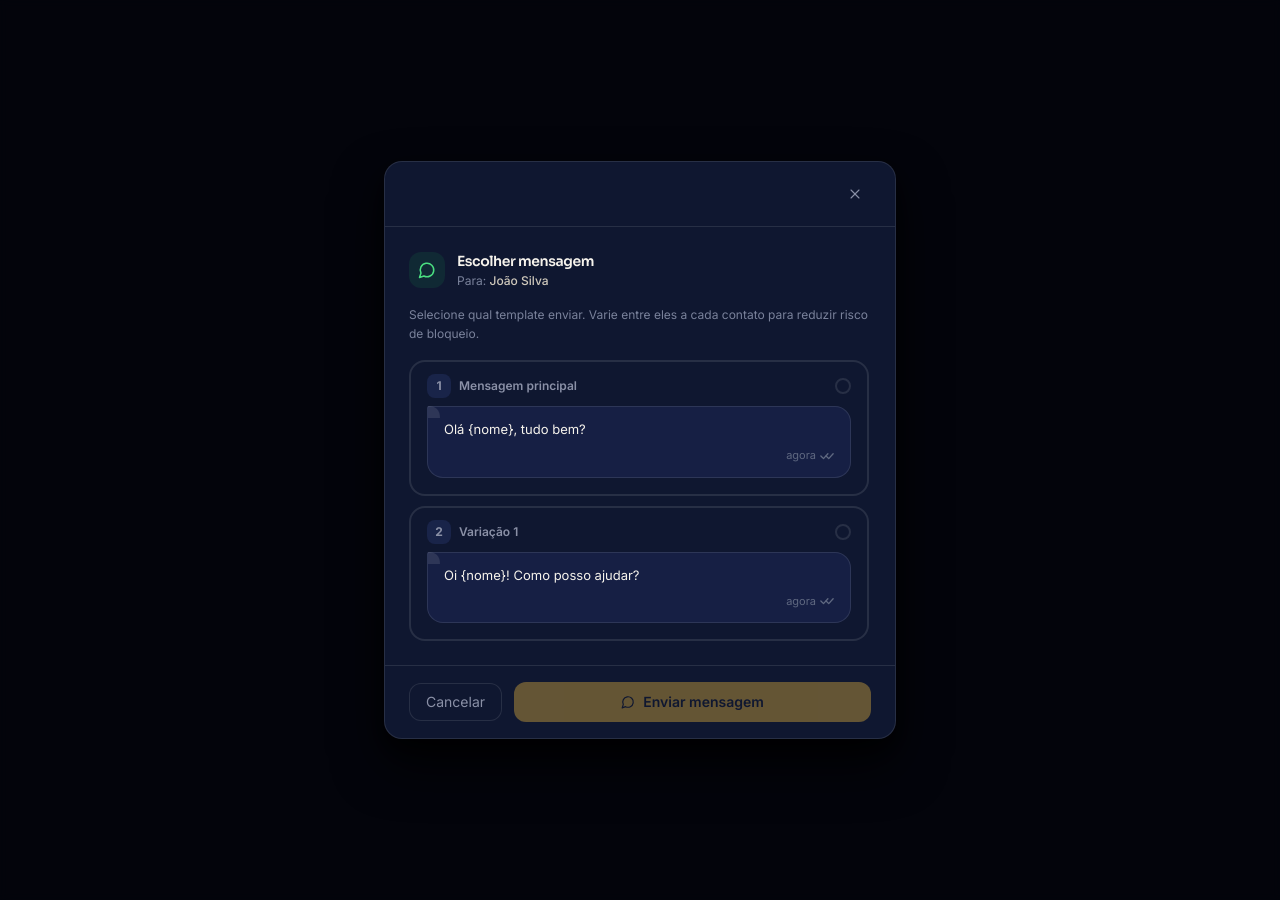
Test: MessagePickerModal › MODAL-4: botão habilitado após selecionar template
This screenshot has width=1280, height=900.
Click the button "1 Mensagem principal Olá {nome}, tudo bem? agora".
click(639, 428)  # box [409,360,869,496]
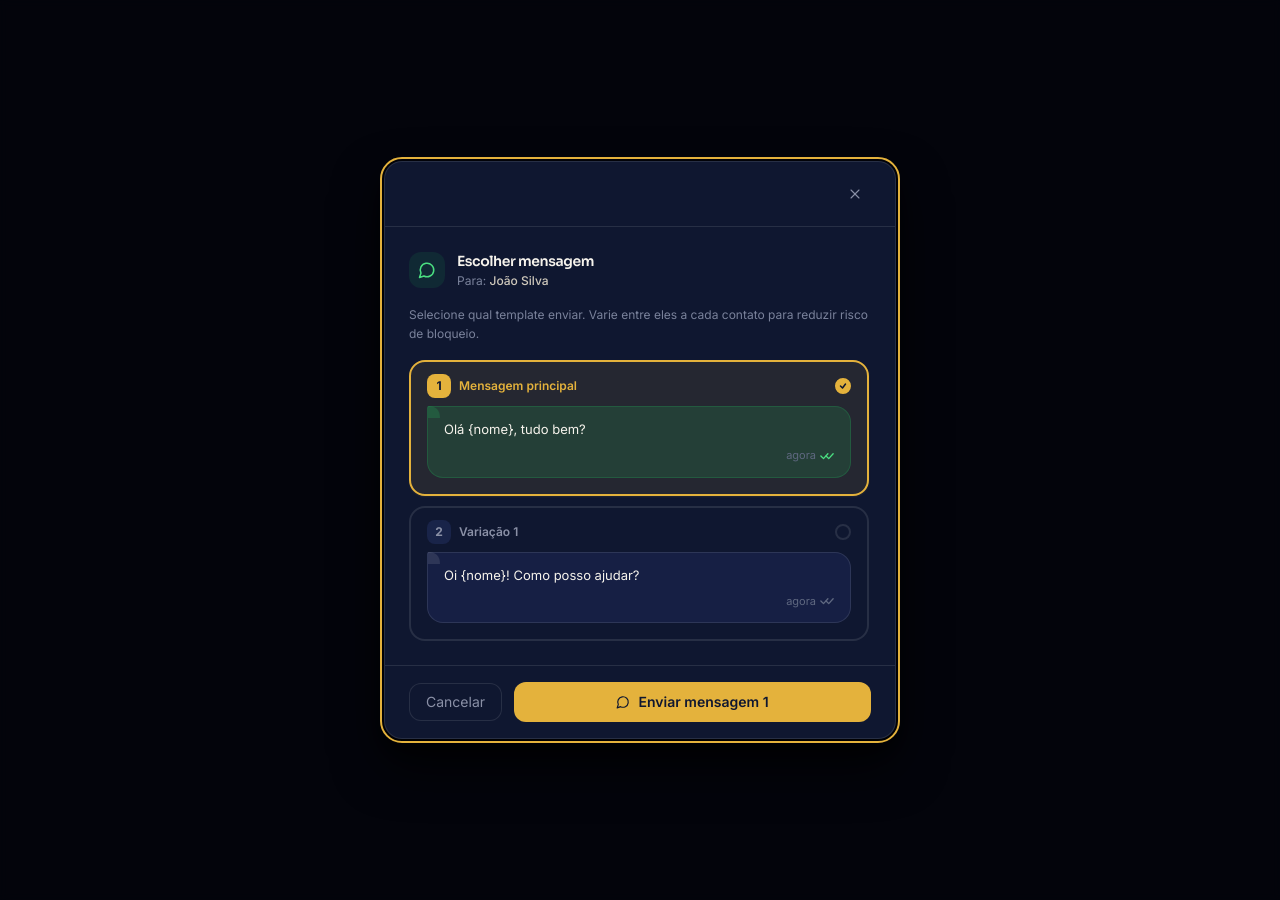
expect the button "Enviar mensagem 1" is enabled: met, box [514,682,871,722]
